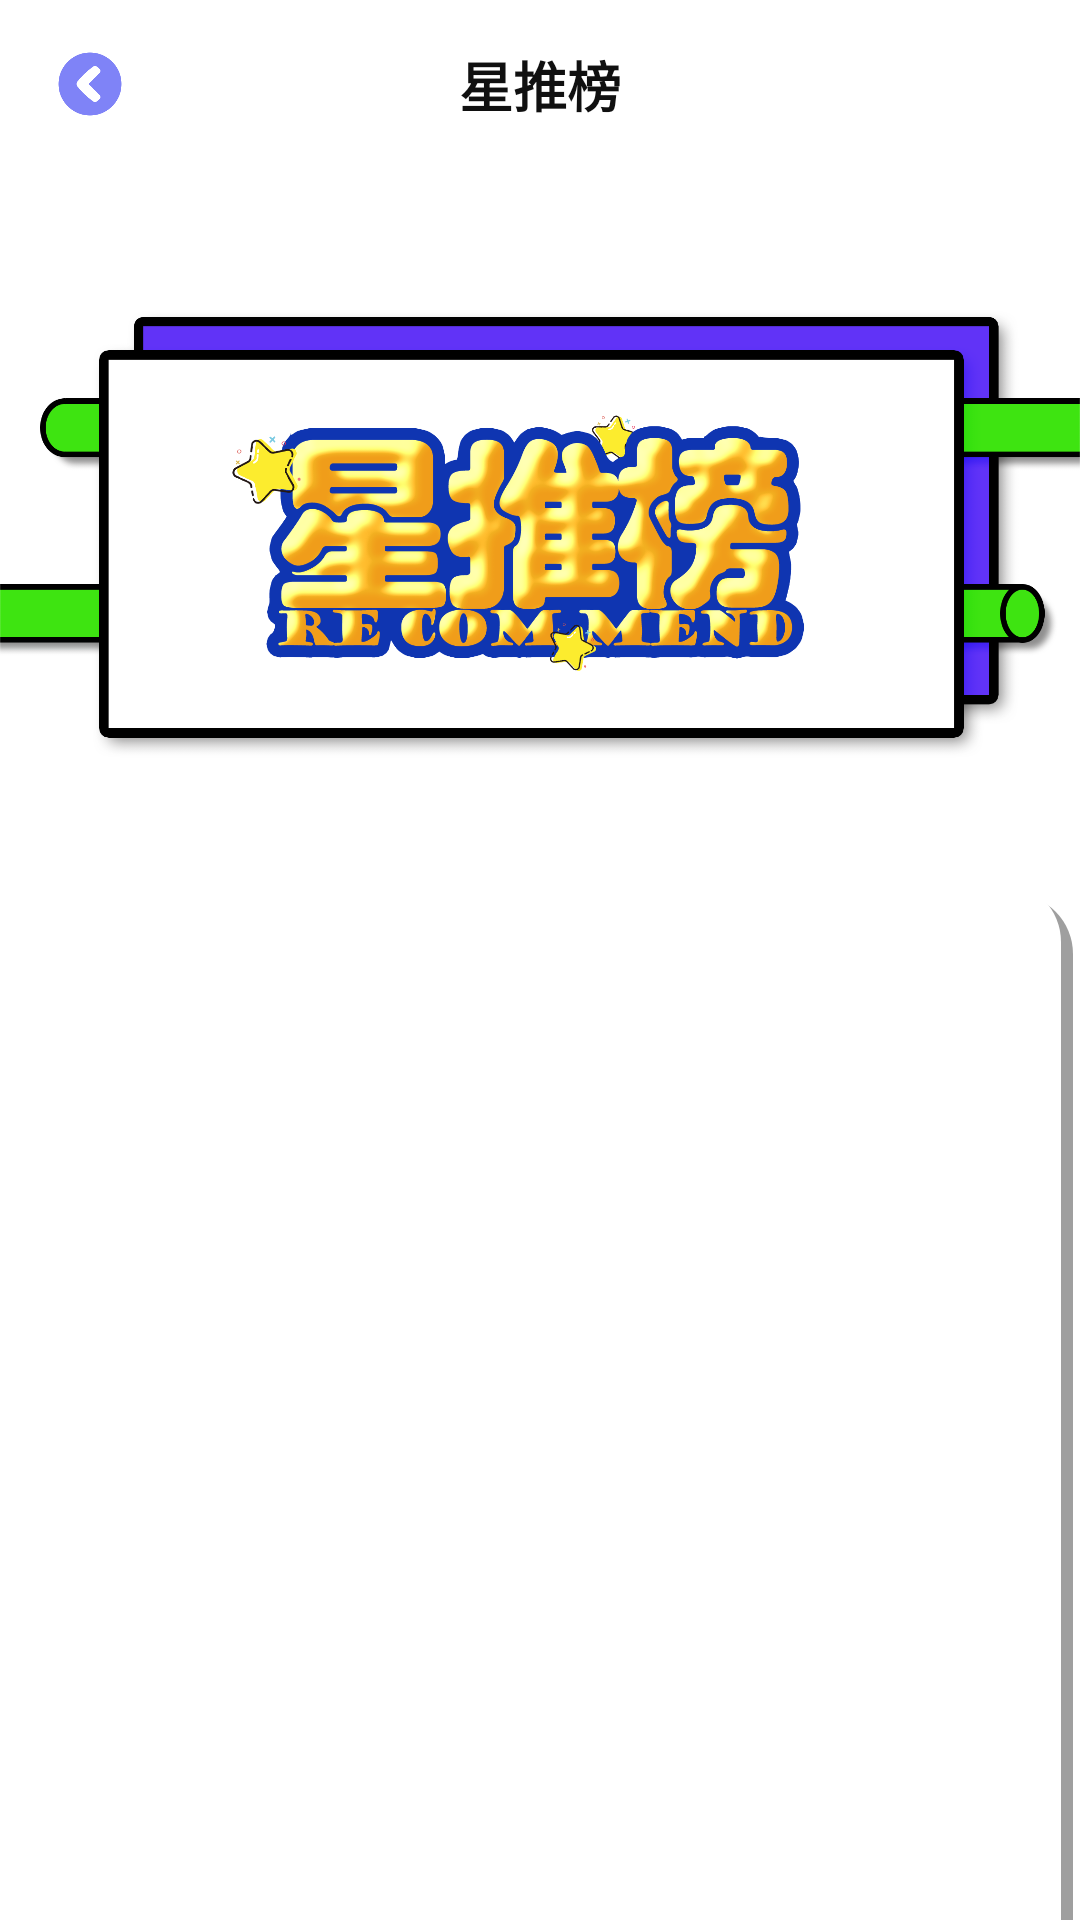

Named icons in this screenshot (1080*1920) and their centers, (x,y):
back: (90,84)
